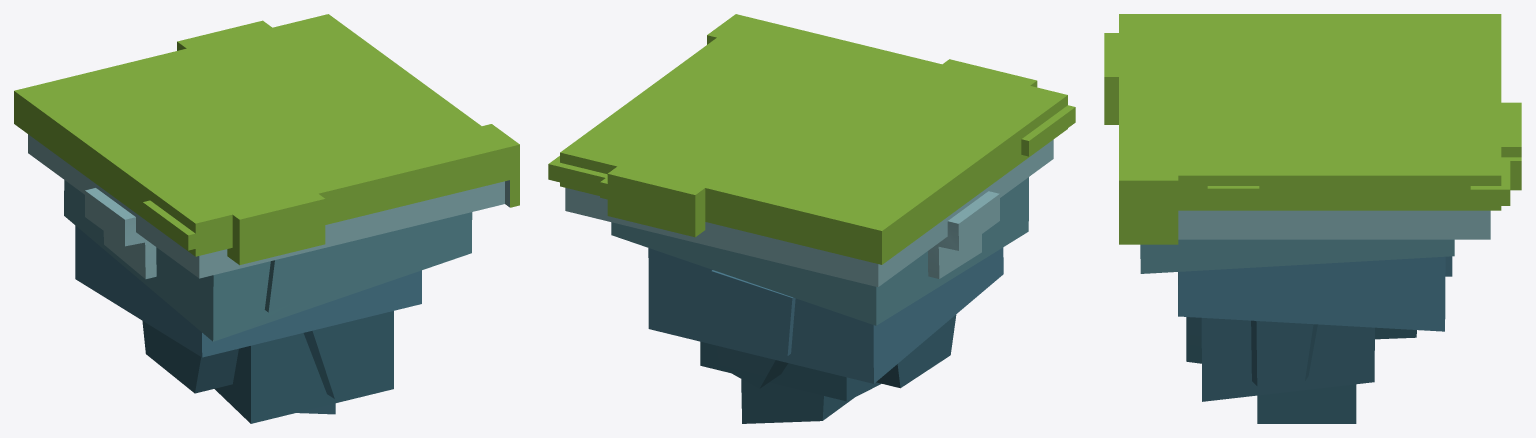
The model's file is model_polytope_floating_island01.fbx.
3 renders of one model, left to right at view 1: azimuth 30°, elevation 25°; view 2: azimuth 150°, elevation 25°; view 3: azimuth 270°, elevation 25°, orthographic. The views are drawn at different scales.
Visible parts, largest first — view 1: model_polytope_floating_island01; view 2: model_polytope_floating_island01; view 3: model_polytope_floating_island01.
Part boxes in pixels (<box>): model_polytope_floating_island01: <box>14,14,519,423</box>; model_polytope_floating_island01: <box>548,14,1075,423</box>; model_polytope_floating_island01: <box>1104,14,1521,423</box>.
Bounding box in the file's own units: 1687 × 1404 × 1746.
